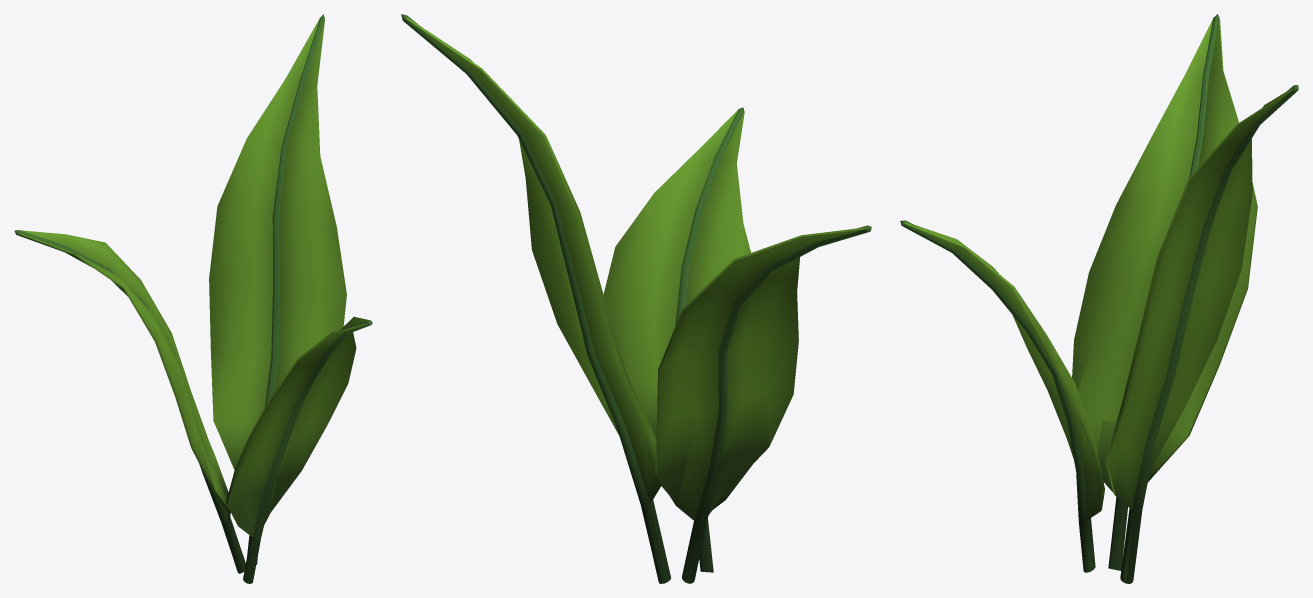
The model's file is Plant1.fbx.
3 views of the same model, side by side, from view 1: azimuth 30°, elevation 25°; view 2: azimuth 150°, elevation 25°; view 3: azimuth 270°, elevation 25° (orthographic). The views are drawn at different scales.
Visible parts, largest first — view 1: Plant1; view 2: Plant1; view 3: Plant1.
Boxes of the visible parts, x1,y1,x2,y2 form: Plant1: (14, 14, 372, 583); Plant1: (401, 14, 871, 583); Plant1: (900, 14, 1298, 583).
Bounding box in the file's own units: 405 × 531 × 329.
